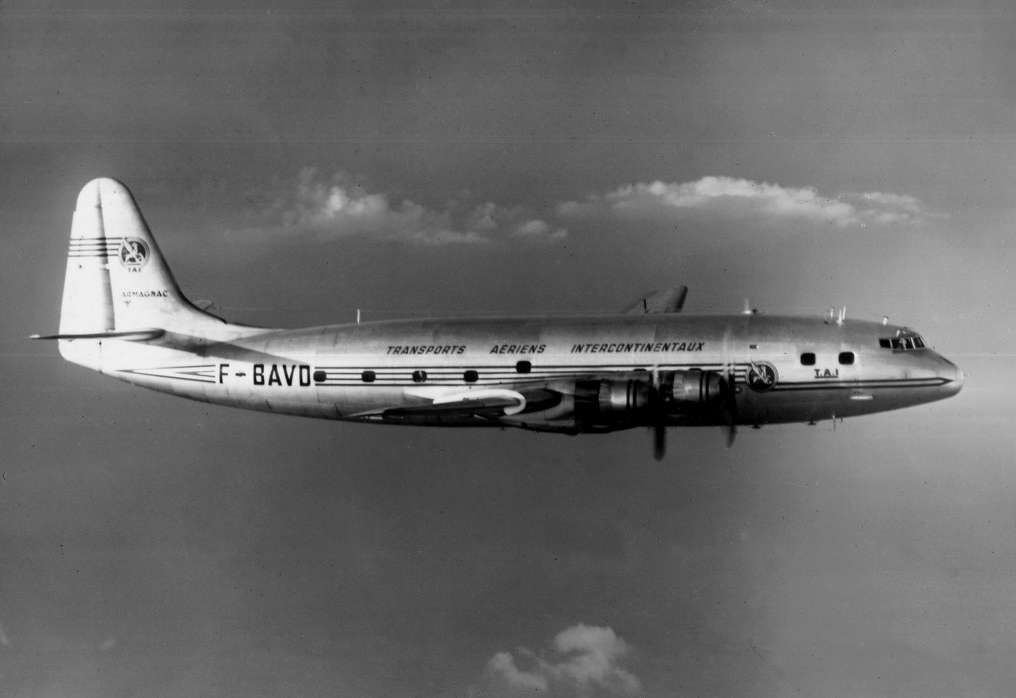aircraft: (29, 176, 965, 462)
